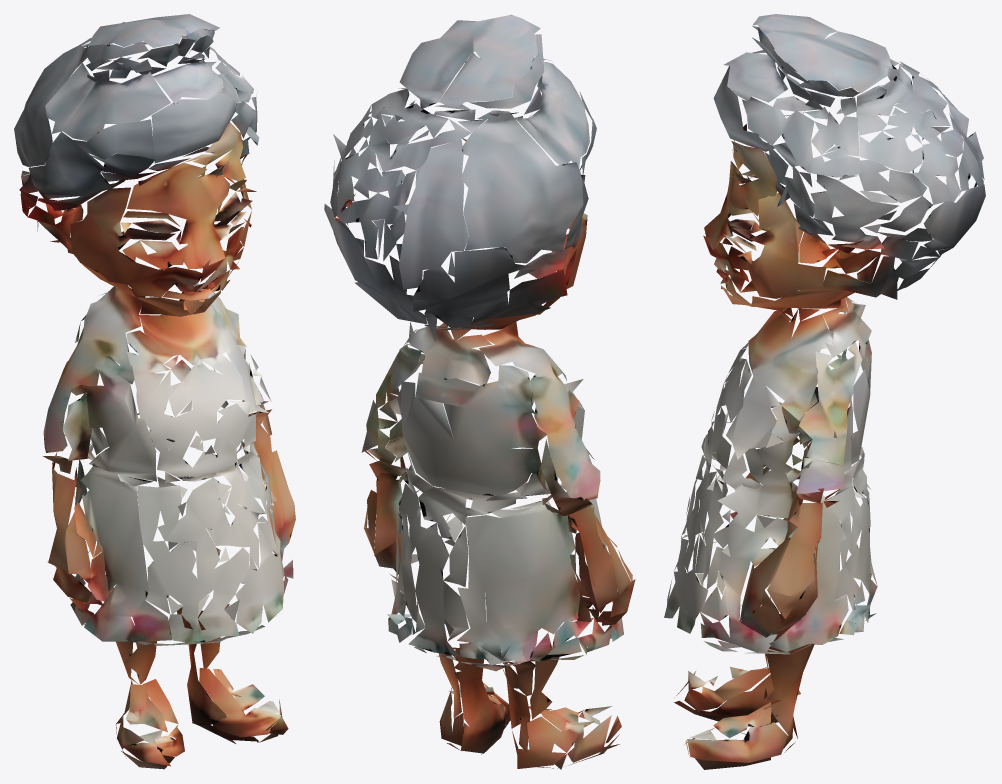
Rendered from abuela-patio-lod2.glb.
3 renders of one model, left to right at view 1: azimuth 30°, elevation 25°; view 2: azimuth 150°, elevation 25°; view 3: azimuth 270°, elevation 25°, orthographic. The views are drawn at different scales.
Parts seen in each view (by area): view 1: geometry_0; view 2: geometry_0; view 3: geometry_0.
Boxes of the visible parts, <box> form: geometry_0: <box>14,14,295,769</box>; geometry_0: <box>324,14,635,769</box>; geometry_0: <box>664,14,985,769</box>.
Bounding box in the file's own units: 1.48 × 4.12 × 1.69.
Materials: 1 (1 with a texture image).
